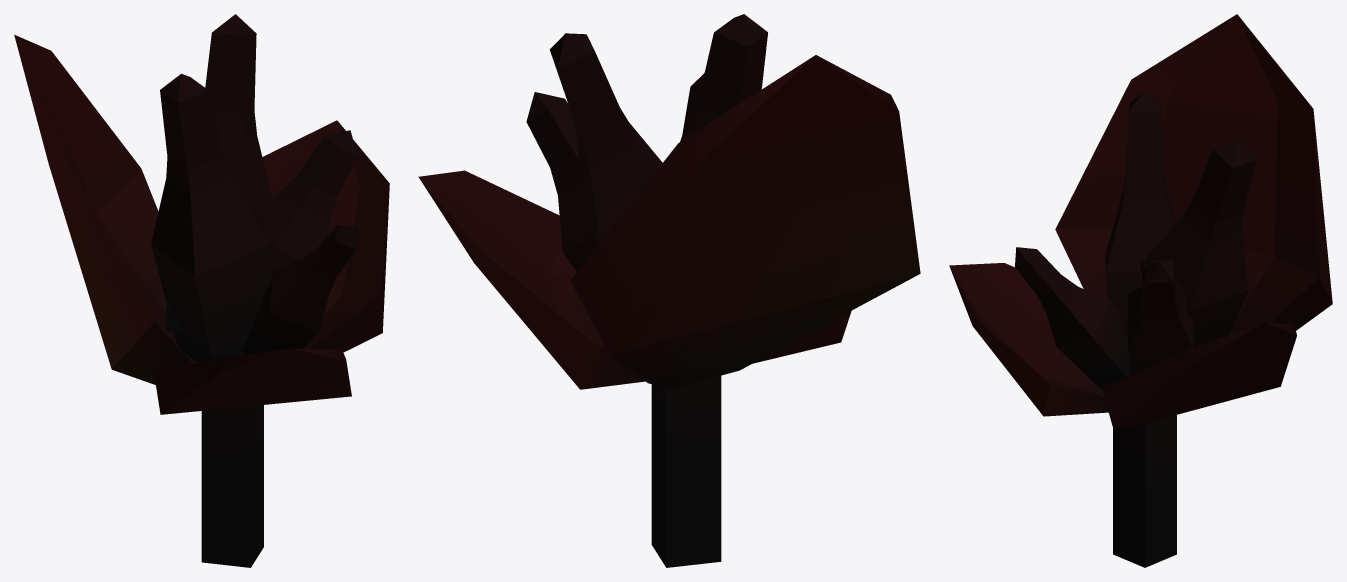
Rendered from SM_DwarfWillow.fbx.
3 views of the same model, side by side, from view 1: azimuth 30°, elevation 25°; view 2: azimuth 150°, elevation 25°; view 3: azimuth 270°, elevation 25° (orthographic). The views are drawn at different scales.
Visible parts, largest first — view 1: SM_DwarfWillow_Var1; view 2: SM_DwarfWillow_Var1; view 3: SM_DwarfWillow_Var1.
Part boxes in pixels (bbox=[...]): SM_DwarfWillow_Var1: bbox=[14, 14, 389, 567]; SM_DwarfWillow_Var1: bbox=[418, 14, 920, 567]; SM_DwarfWillow_Var1: bbox=[949, 14, 1332, 567].
Size of the model in its own units: 28.5 by 39.02 by 29.01.
